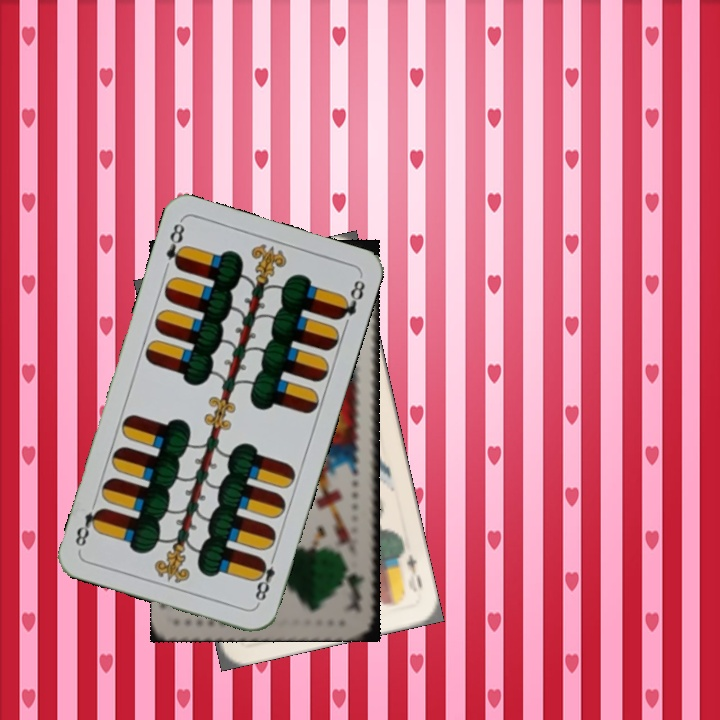E8: (251, 550, 279, 608), (162, 217, 189, 272)
EO: (393, 542, 425, 591)
GK: (344, 558, 368, 609)
